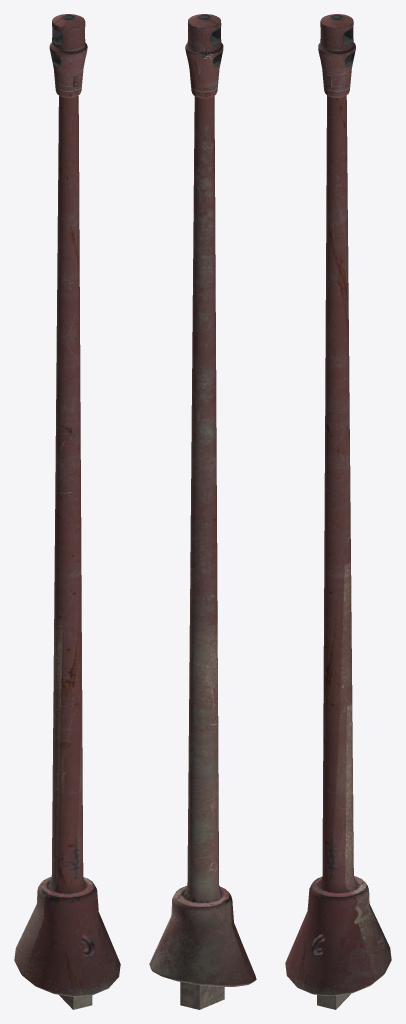
File: Gun_01.glb
The picture shows the model from 3 angles, left to right: view 1: azimuth 30°, elevation 25°; view 2: azimuth 150°, elevation 25°; view 3: azimuth 330°, elevation 25°; orthographic projection.
Visible parts, largest first — view 1: set_0_group_0; view 2: set_0_group_0; view 3: set_0_group_0.
Boxes of the visible parts, box(x1,y1,x2,y2) form: set_0_group_0: box(14, 14, 120, 1009); set_0_group_0: box(149, 14, 256, 1009); set_0_group_0: box(285, 14, 391, 1009).
Bounding box in the file's own units: 0.6873 × 6.91 × 0.6744.
1 material, 1 textured.
